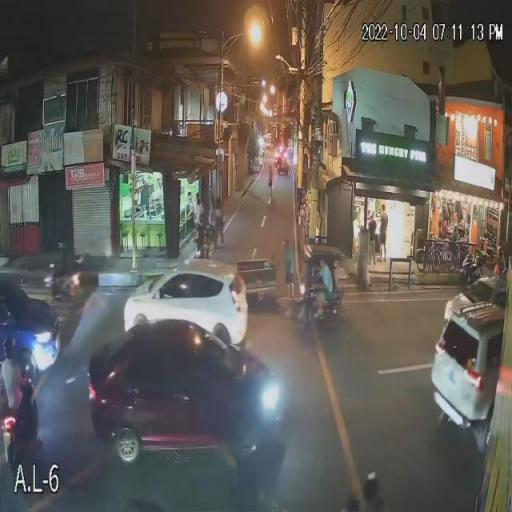helmet: (58, 242, 68, 256)
motorcycle: (40, 267, 88, 304)
rider: (57, 240, 70, 284)
